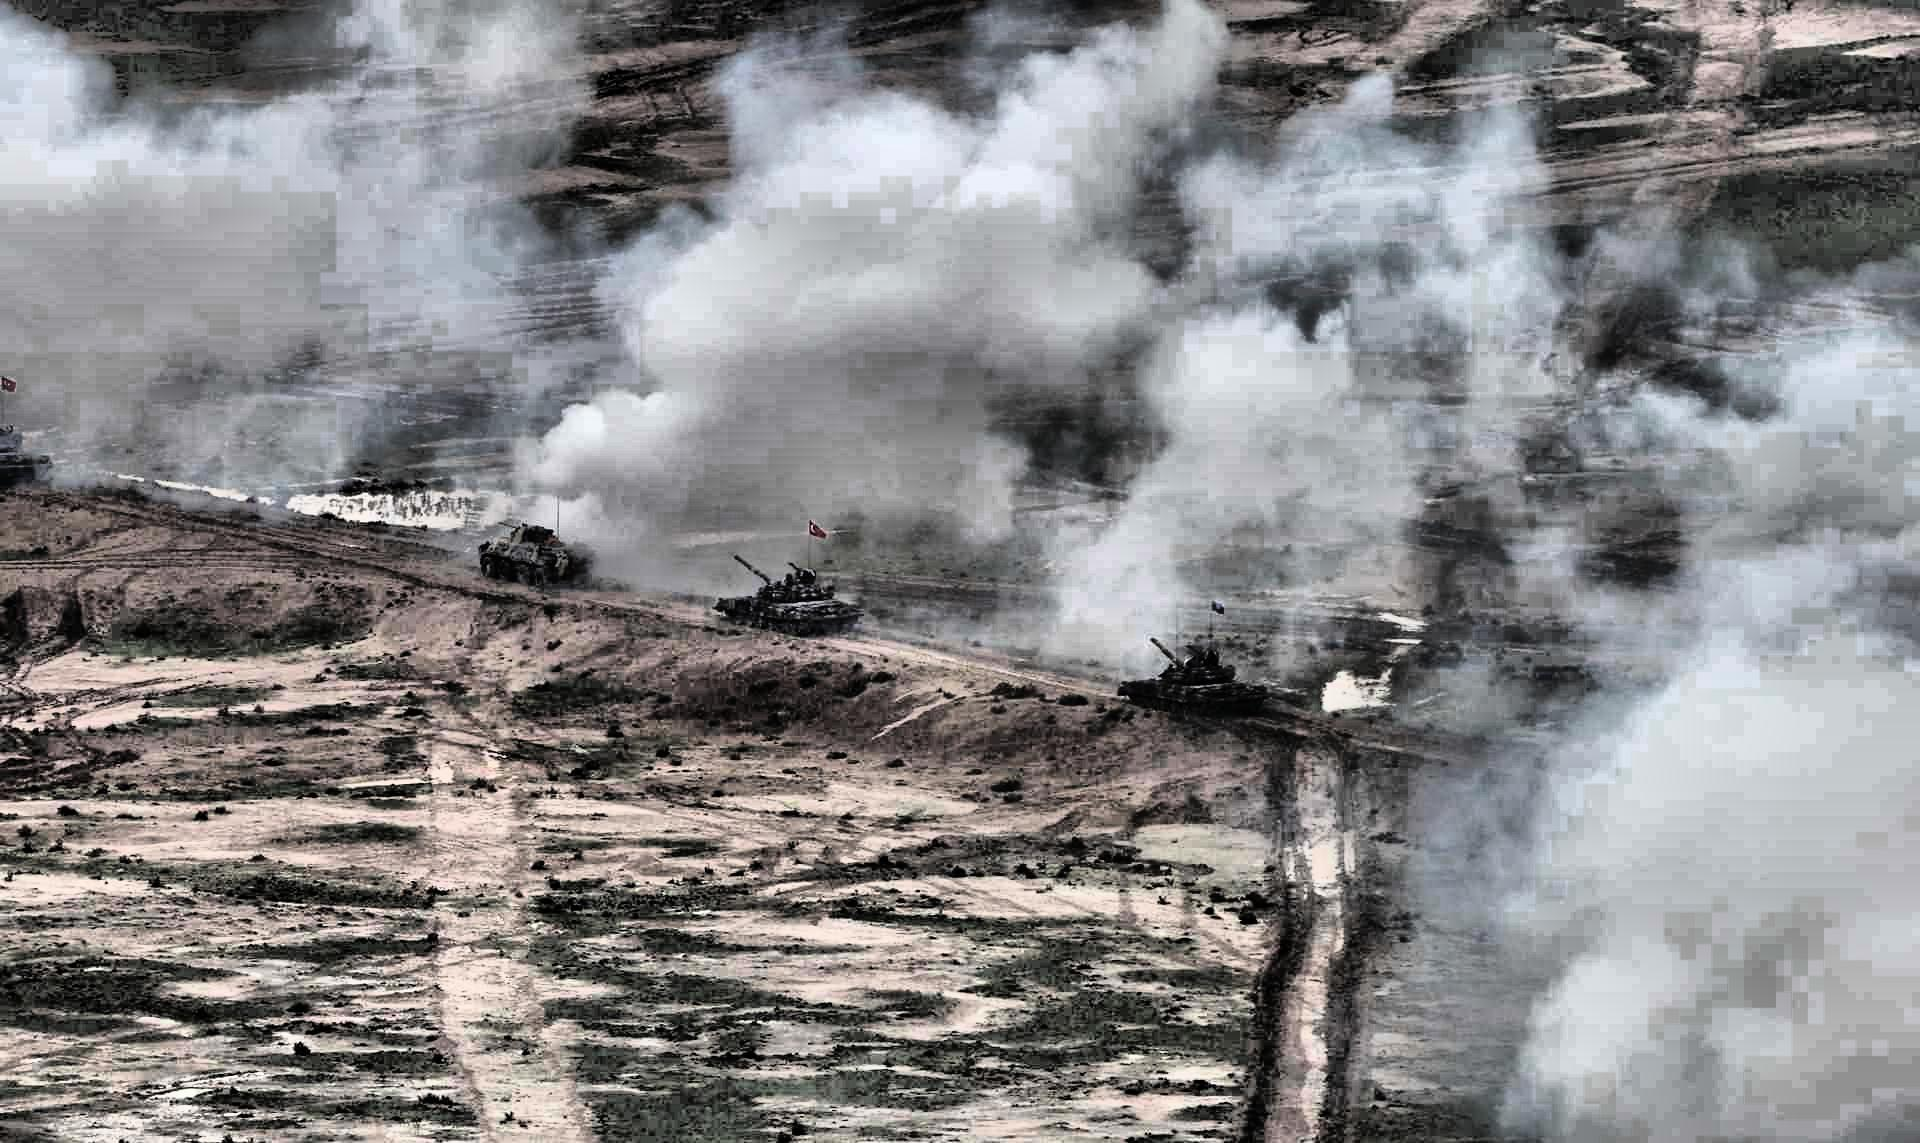military-vehicle: (1118, 632, 1272, 720), (720, 552, 854, 634), (478, 520, 588, 590)
